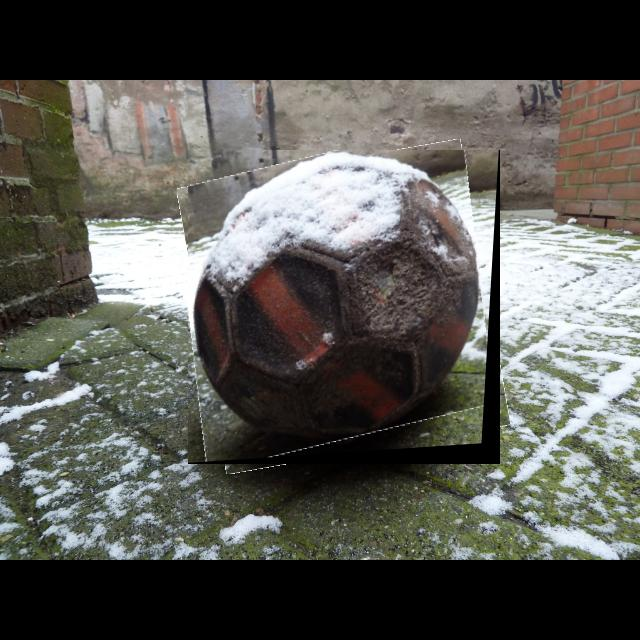Football: (188, 150, 500, 464)
